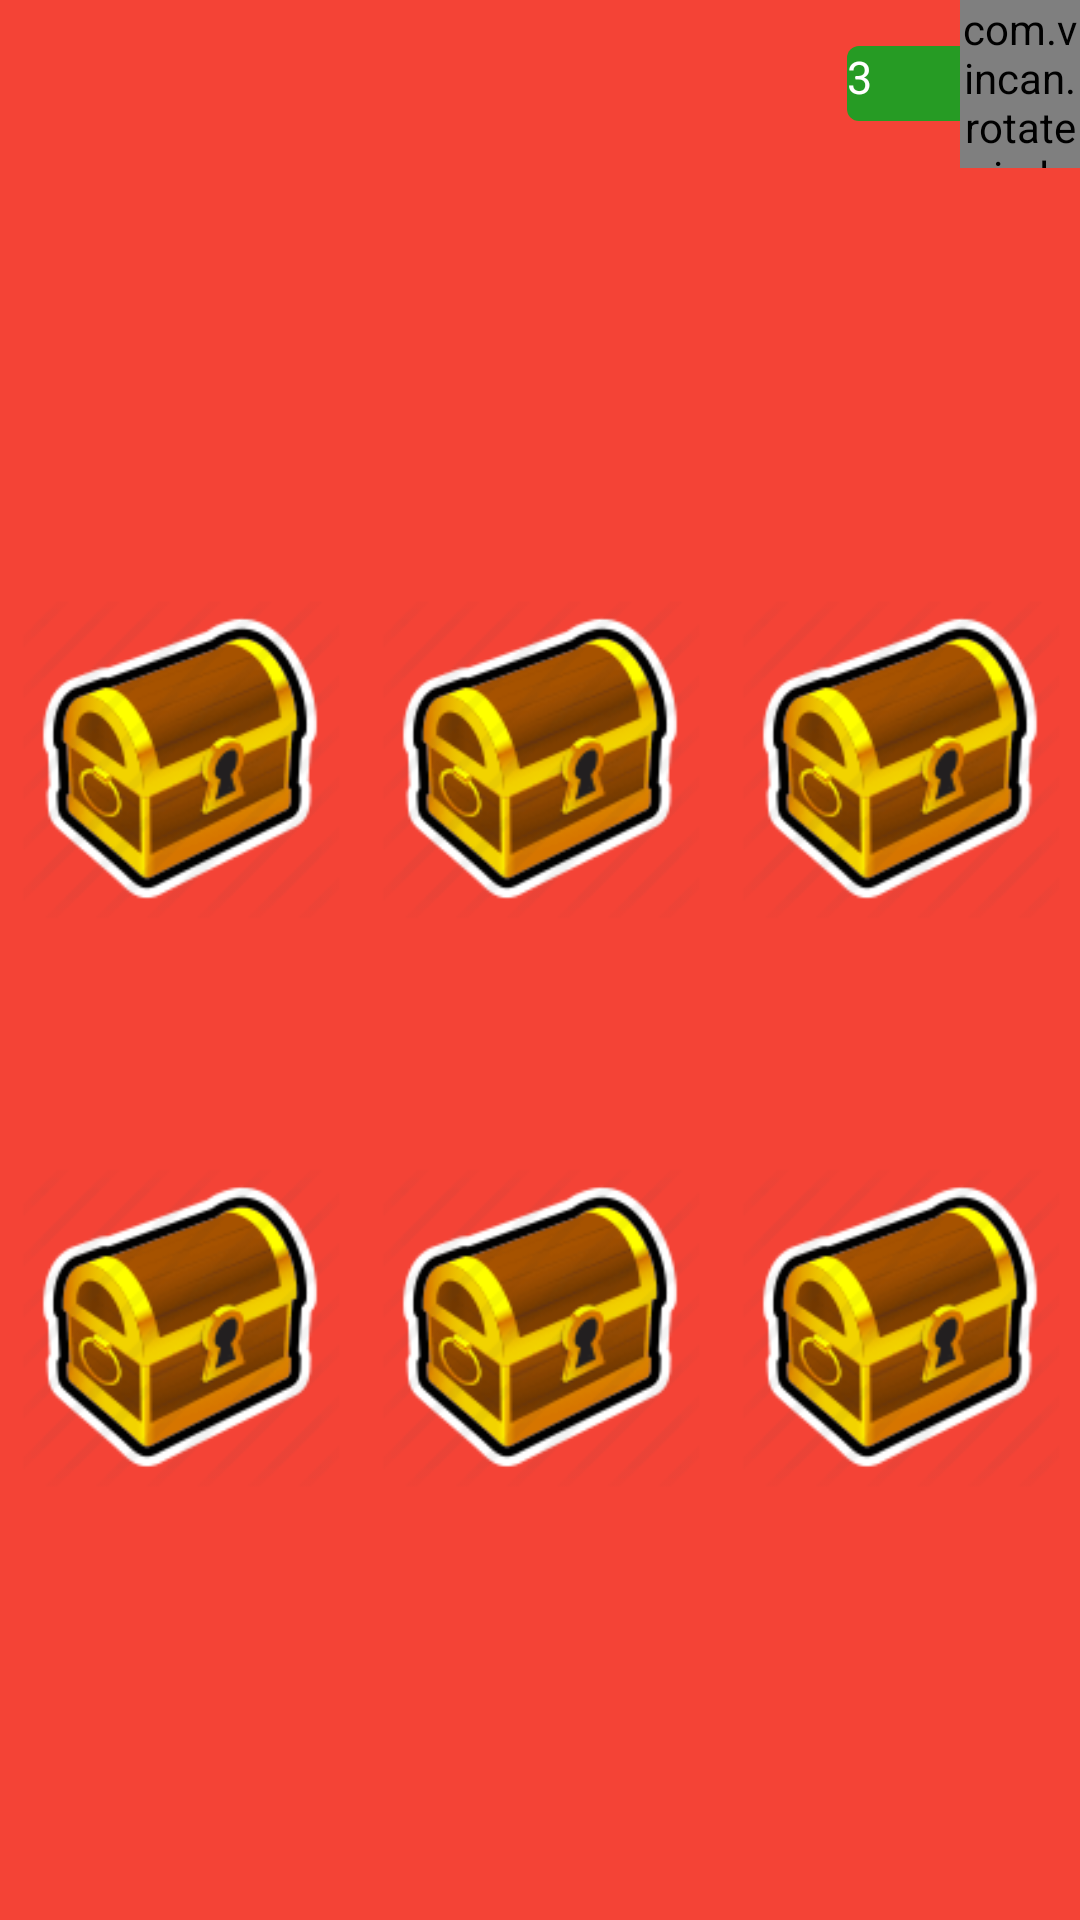

Icons on this 1080x1920 Android screen, each with its box as (x1, y1, x2, y2):
chestclose: (42, 618, 318, 899), (402, 618, 678, 899), (762, 618, 1038, 899), (42, 1187, 318, 1467), (402, 1187, 678, 1467), (762, 1187, 1038, 1467)
